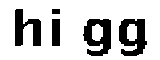g: (117, 16, 153, 60), (81, 14, 112, 59)
h: (5, 5, 43, 51)
i: (51, 4, 65, 50)
